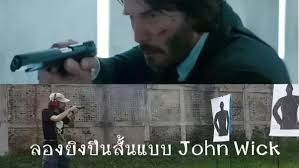Gun: (12, 39, 88, 80)
